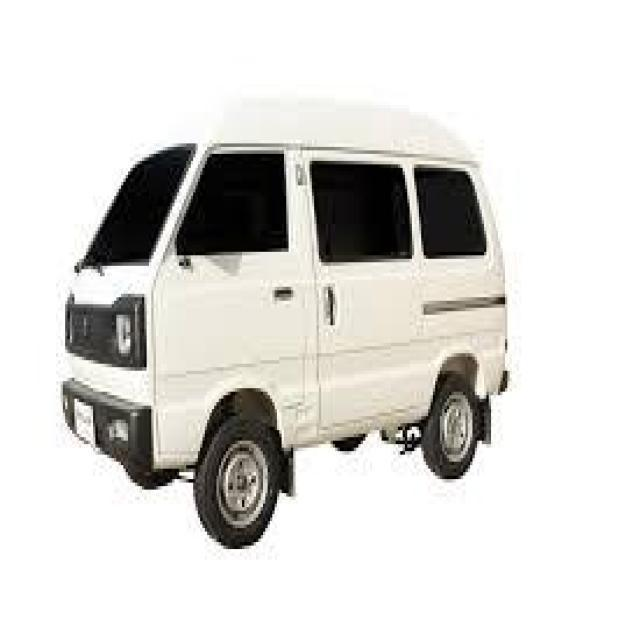van: (39, 85, 569, 552)
